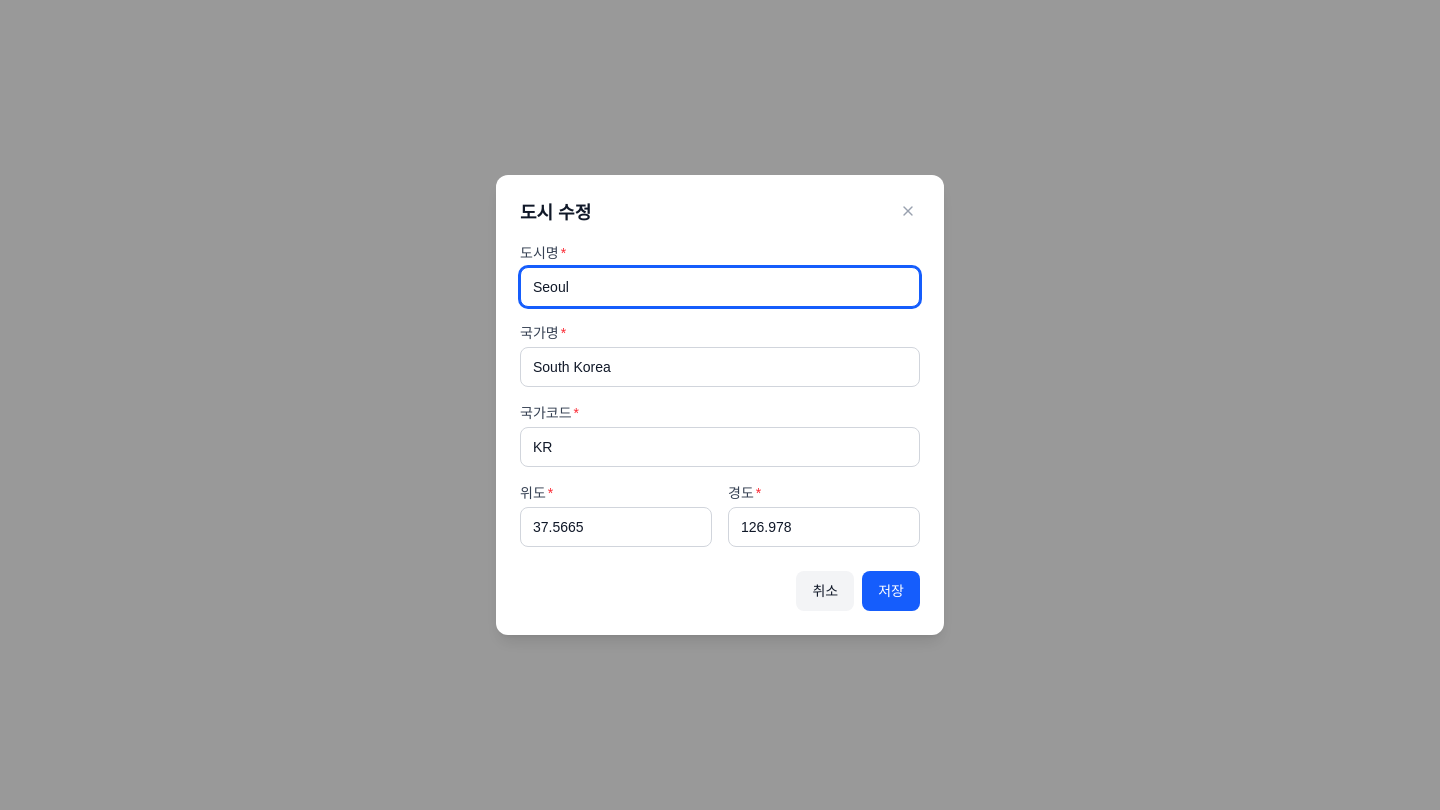
Test case: CityFormModal - edit mode (F4) › 유효한 값으로 수정 제출하면 실제 updateCity를 통해 저장소가 갱신되고 모달이 닫힌다
Replace the text in the field labelled "도시명*" with "Seoul Updated" at (720,287), box x1=520 y1=267 x2=920 y2=307
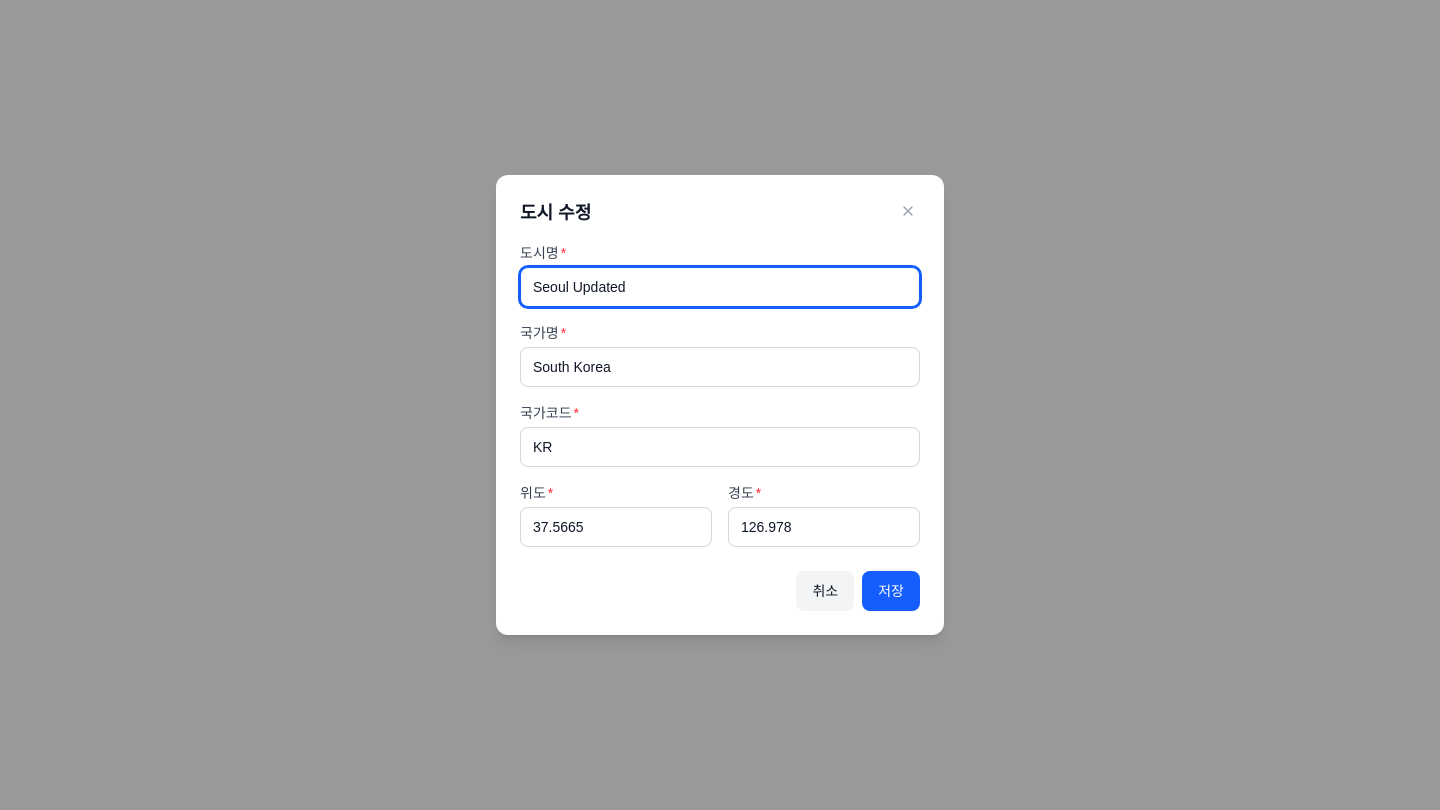
Click the button "저장" at (891,591), box x1=862 y1=571 x2=920 y2=611
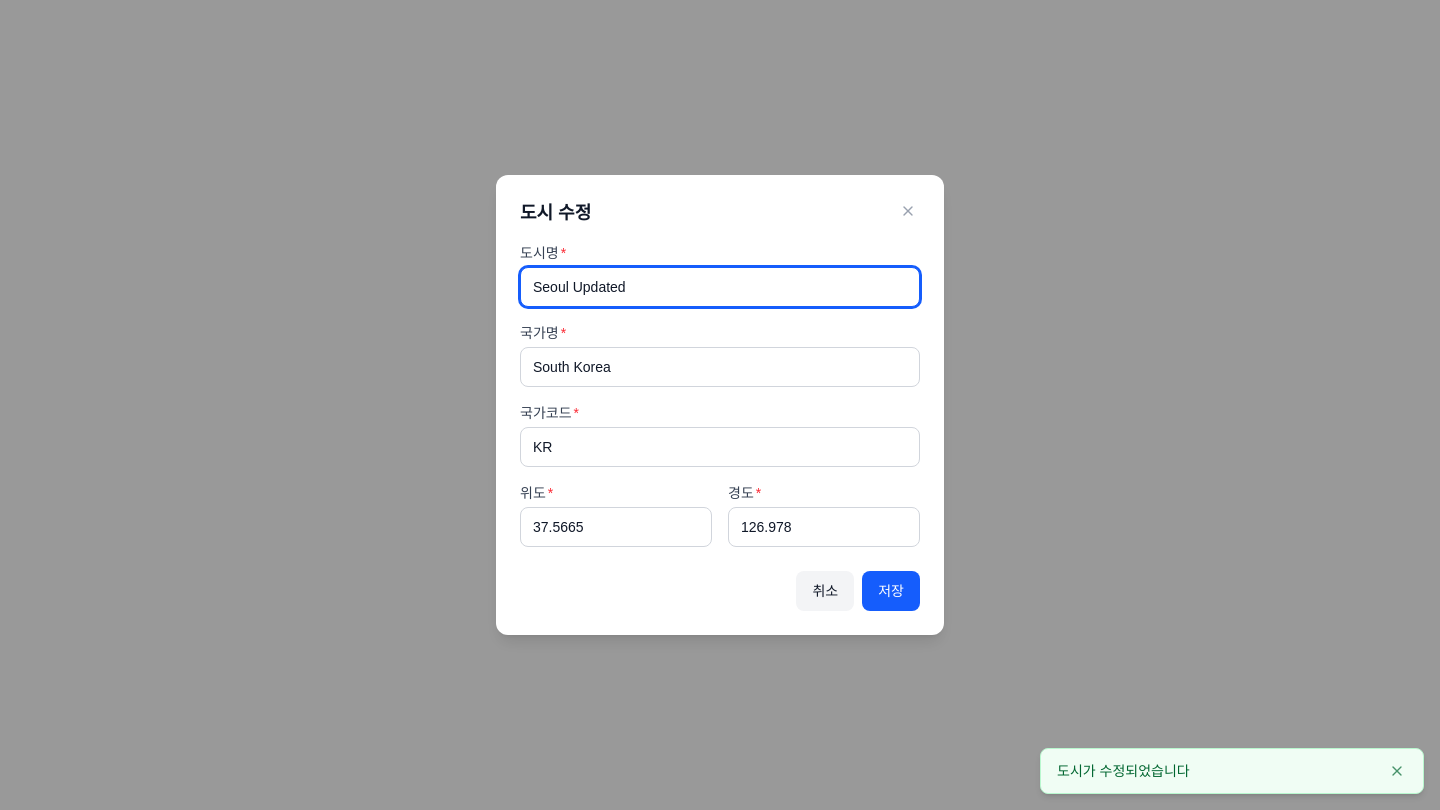
Now the text "도시가 수정되었습니다" is shown, box x1=1057 y1=761 x2=1190 y2=781
